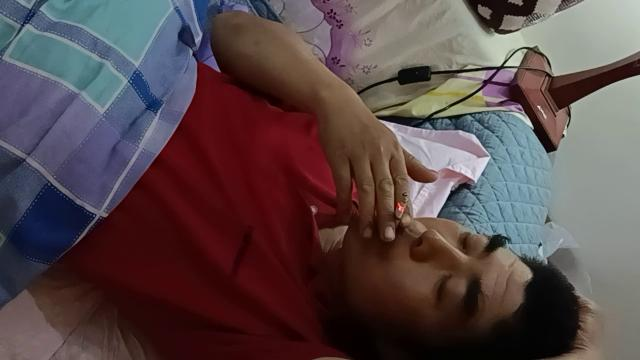Smoking: (389, 191, 408, 231)
